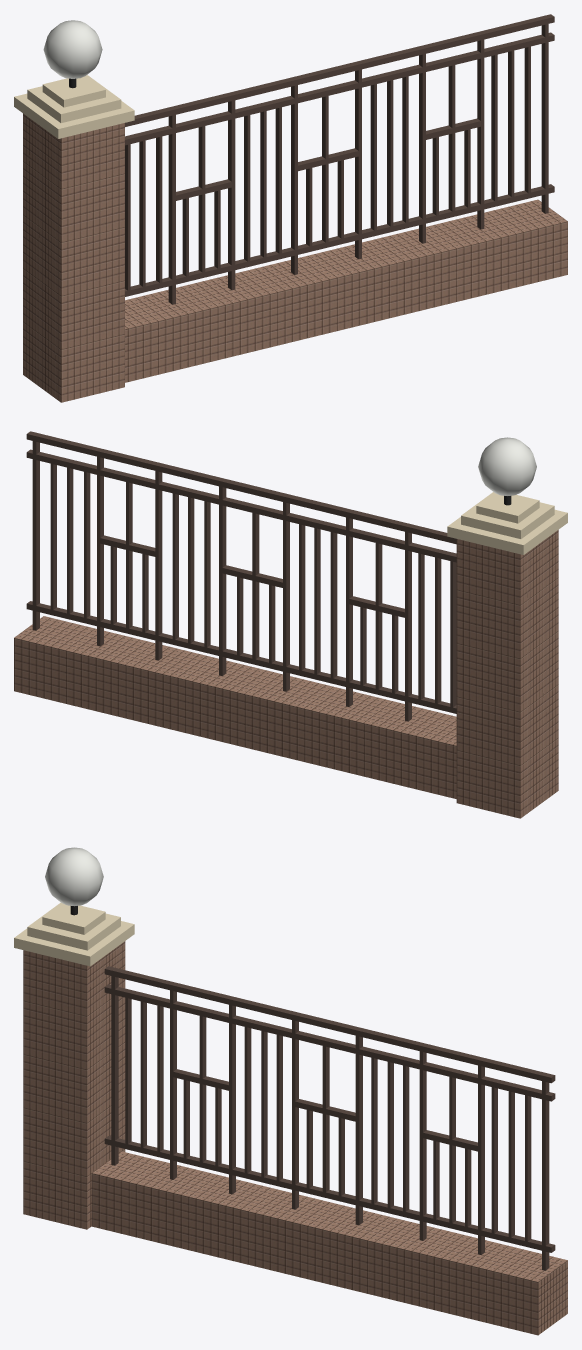
3 renders of one model, top to bottom at view 1: azimuth 30°, elevation 25°; view 2: azimuth 150°, elevation 25°; view 3: azimuth 330°, elevation 25°, orthographic.
Visible parts, largest first — view 1: LO-langan_01; view 2: LO-langan_01; view 3: LO-langan_01.
Part boxes in pixels (x1,y1,x2,y2): LO-langan_01: (14, 14, 567, 402); LO-langan_01: (14, 431, 567, 818); LO-langan_01: (14, 847, 567, 1335).
Bounding box in the file's own units: 4.05 × 2.68 × 0.6002.
3 materials, 3 textured.
